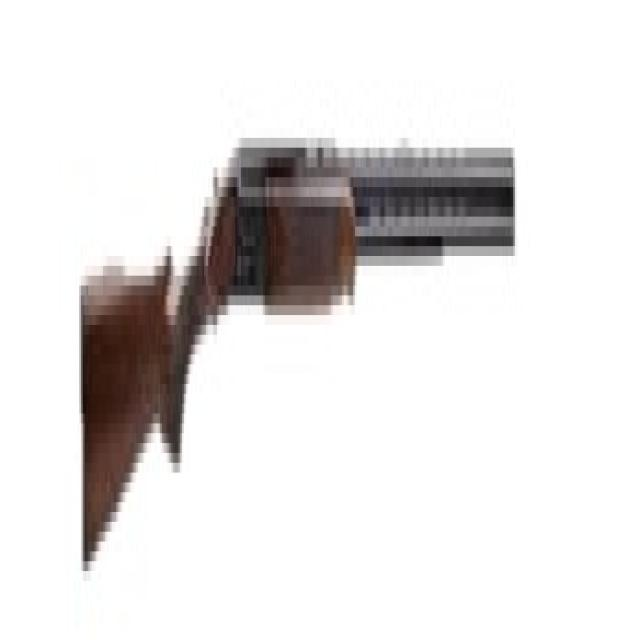rifle: (72, 89, 529, 615)
